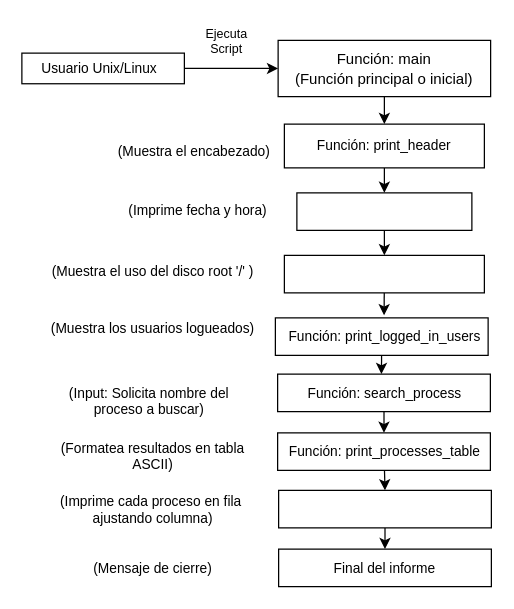
This 514x609 diagram has some shape labels left out. Here are the shapes that lost their labels. From the top down, the centre of each, then its label:
At pixel 384 211: "Función: print_datetime".
At pixel 383 273: "Función: get_root_space".
At pixel 384 508: "Función: print_process_line".
